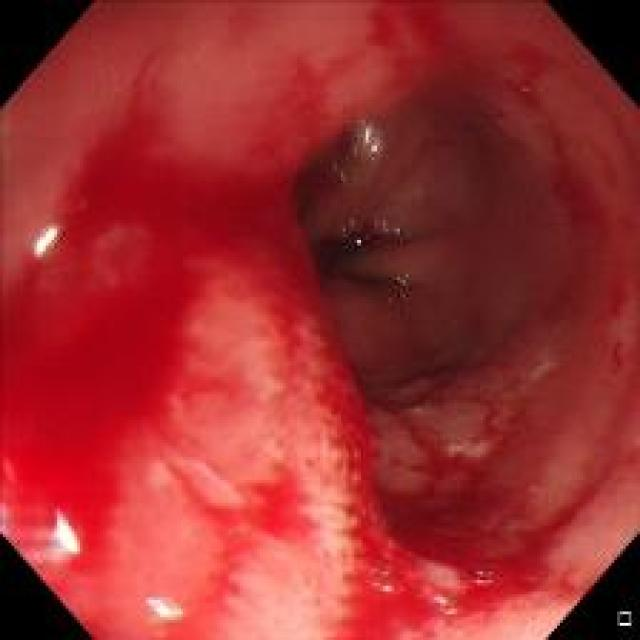blood: (9, 72, 232, 539), (316, 366, 562, 630), (360, 29, 566, 226), (168, 450, 315, 561)
blur: (31, 151, 362, 595)
color misalignment: (392, 268, 421, 306), (431, 590, 460, 619), (365, 564, 392, 595), (334, 218, 361, 245), (470, 568, 496, 590), (375, 214, 400, 236)
specularity: (38, 502, 82, 559), (26, 218, 64, 270), (138, 590, 191, 622), (329, 214, 369, 249), (349, 118, 381, 158), (392, 266, 422, 306), (328, 156, 359, 189), (374, 214, 401, 239)
